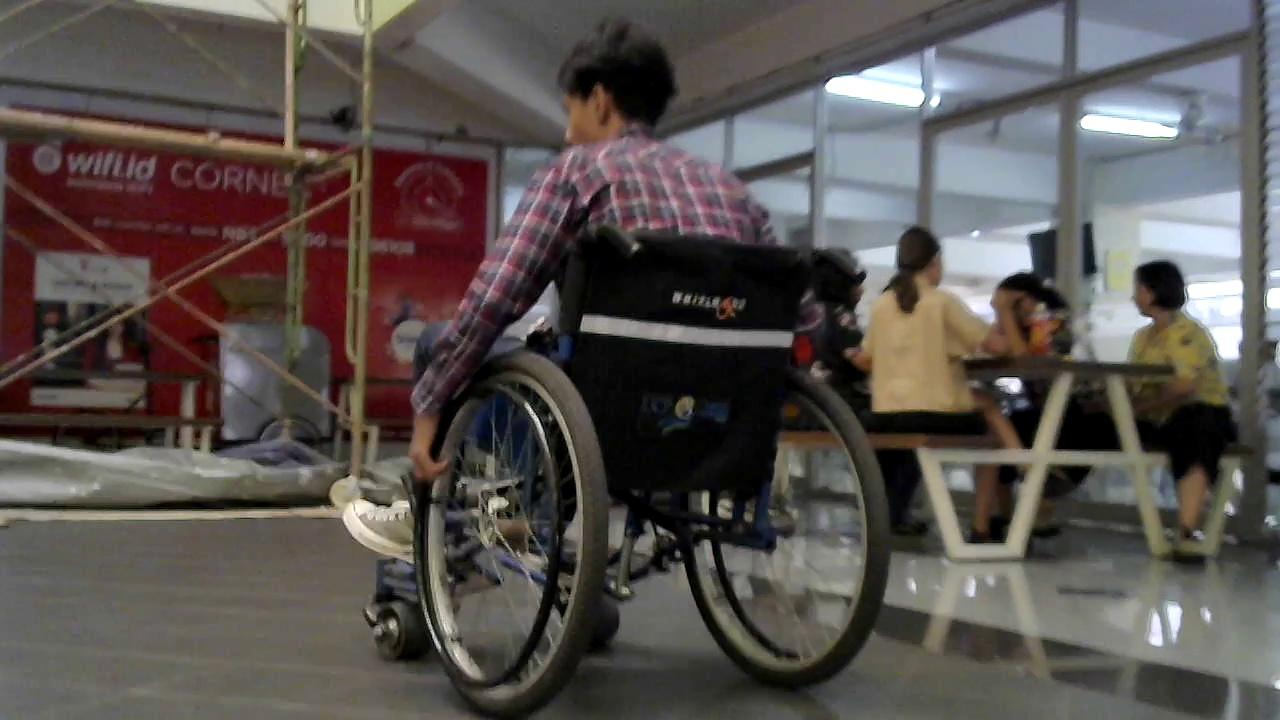person: (399, 15, 788, 485), (862, 226, 998, 541), (1120, 258, 1241, 560), (962, 273, 1079, 550), (793, 246, 871, 413)
wheelchair: (334, 213, 905, 720)
